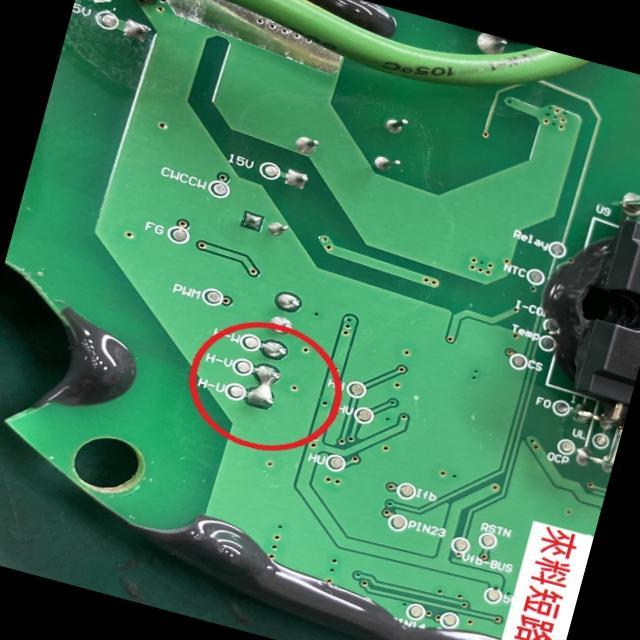Short_circuit: (245, 364, 280, 408)
